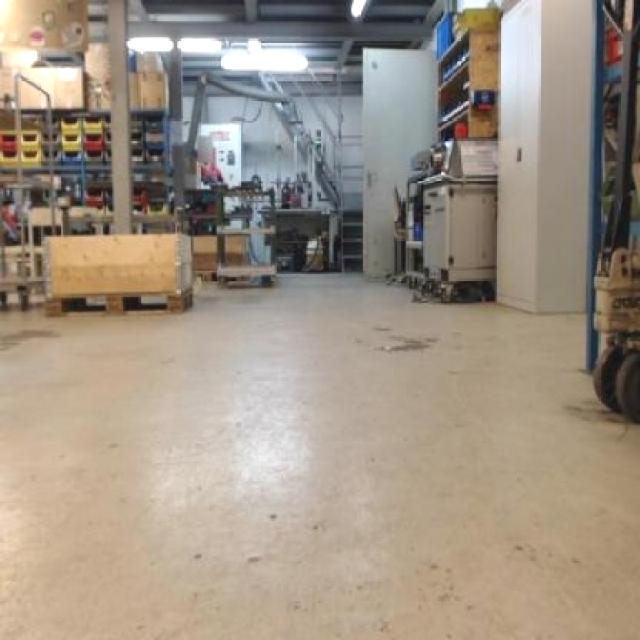floor: (0, 272, 637, 637)
pallets: (46, 232, 189, 312)
